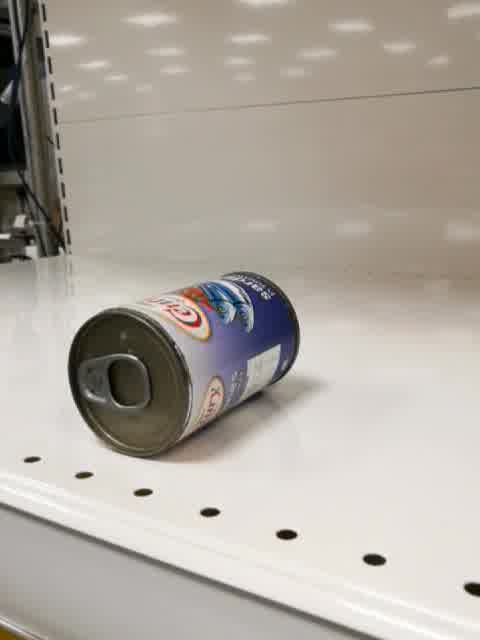sardine: (65, 271, 301, 460)
